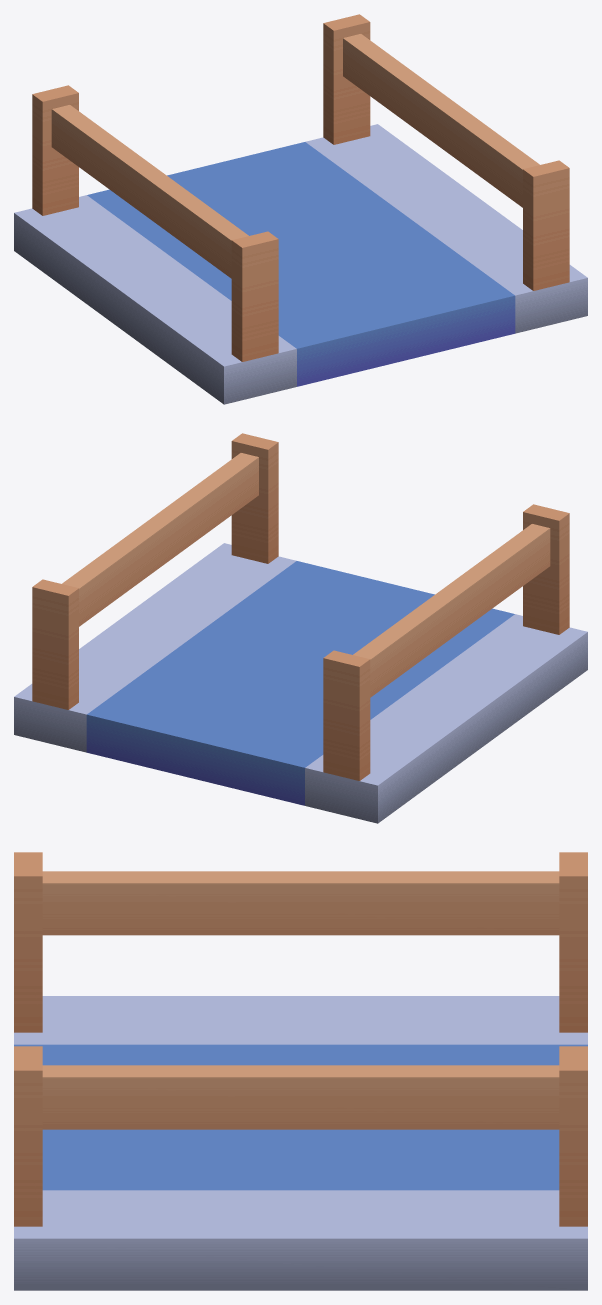
Rendered from queue-straight.glb.
3 views of the same model, one above another, from view 1: azimuth 30°, elevation 25°; view 2: azimuth 150°, elevation 25°; view 3: azimuth 270°, elevation 25° (orthographic). The views are drawn at different scales.
Visible parts, largest first — view 1: queue-straight; view 2: queue-straight; view 3: queue-straight.
Part boxes in pixels (box(x1,y1,x2,y2)): queue-straight: box(14, 14, 587, 404); queue-straight: box(14, 433, 587, 823); queue-straight: box(14, 852, 587, 1290).
Size of the model in its own units: 1 by 0.3999 by 1.
Materials: 1 (1 with a texture image).
